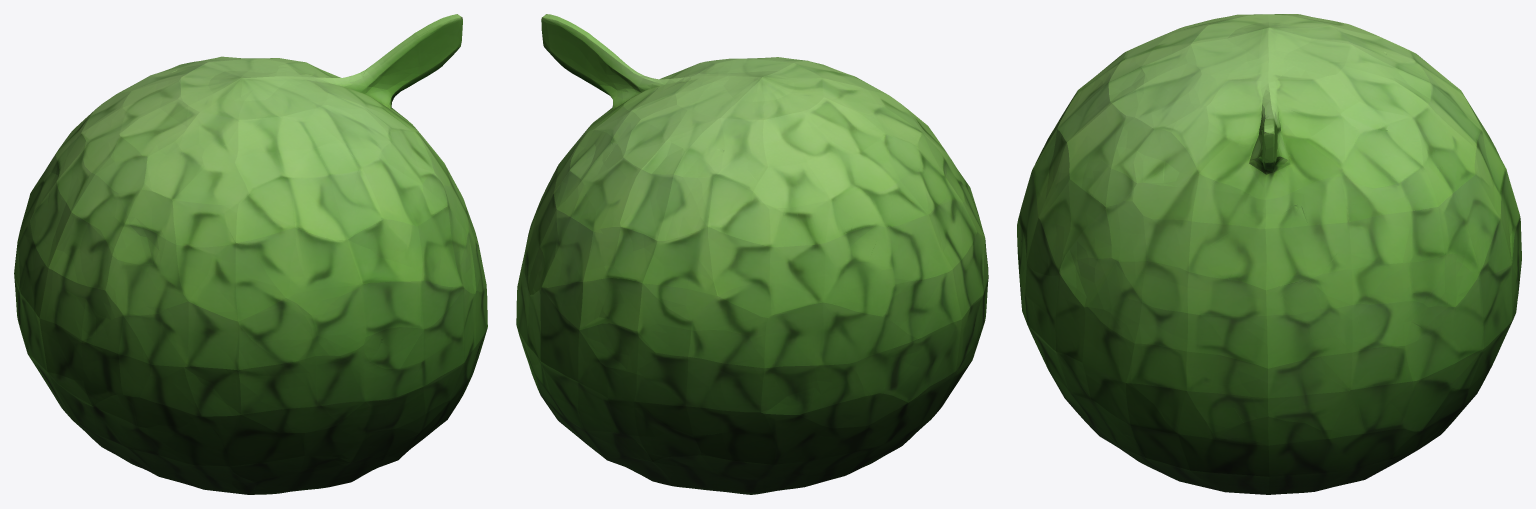
3 views of the same model, side by side, from view 1: azimuth 30°, elevation 25°; view 2: azimuth 150°, elevation 25°; view 3: azimuth 270°, elevation 25° (orthographic). The views are drawn at different scales.
Visible parts, largest first — view 1: geometry_0; view 2: geometry_0; view 3: geometry_0.
Boxes of the visible parts, bbox=[...] form: geometry_0: bbox=[14, 14, 487, 494]; geometry_0: bbox=[516, 14, 988, 494]; geometry_0: bbox=[1017, 14, 1521, 494].
Size of the model in its own units: 0.9814 by 0.9136 by 0.9527.
Materials: 1 (1 with a texture image).
